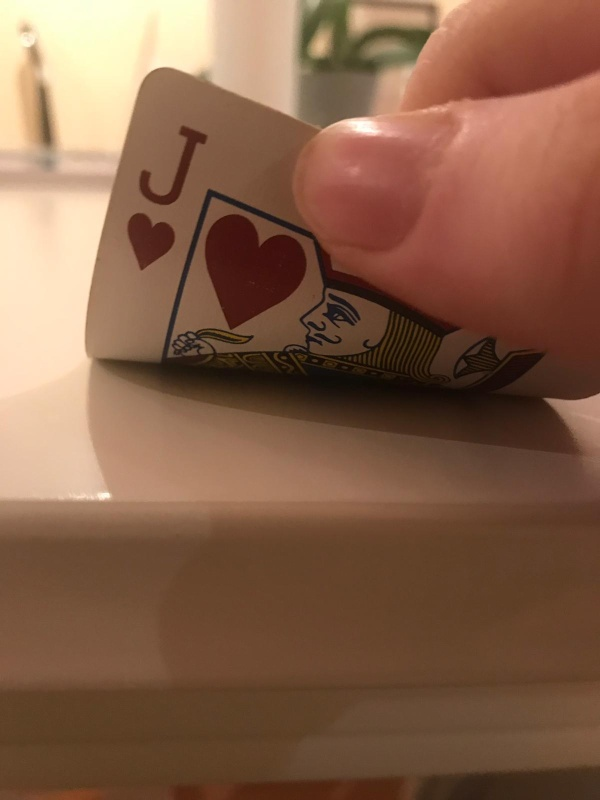Hj: (126, 114, 203, 277)
